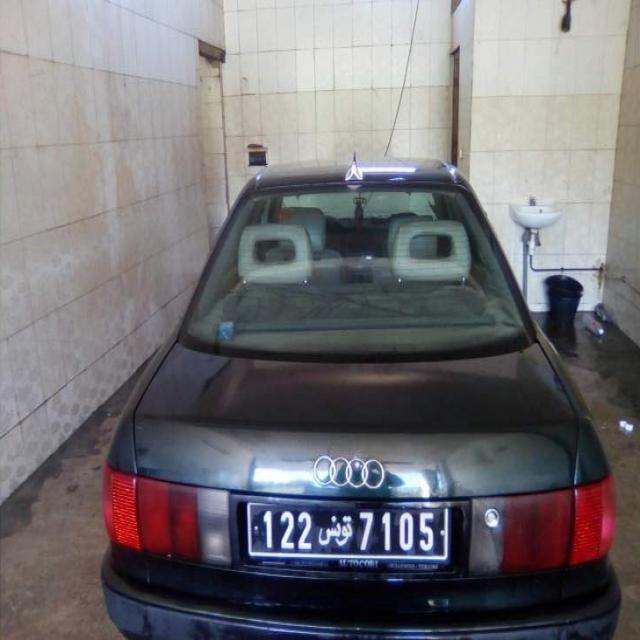licence plate: (251, 506, 444, 554)
